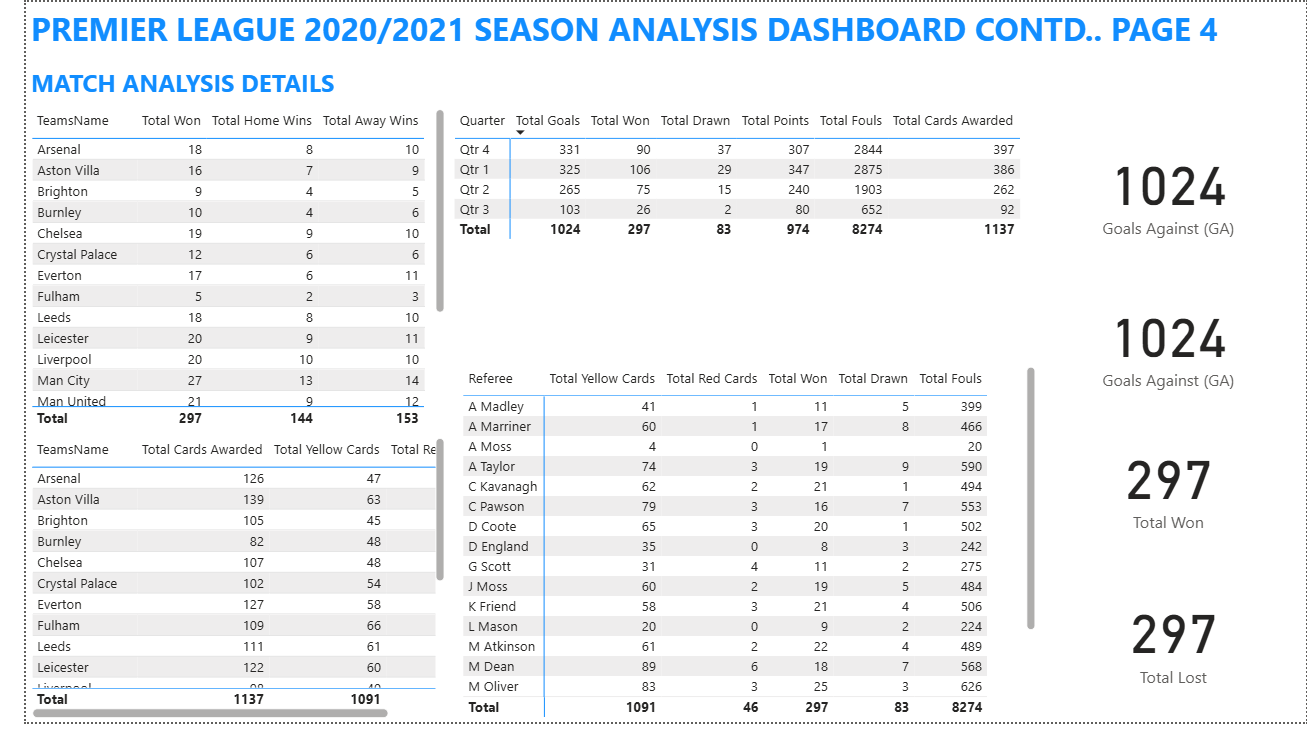

Layout of this report page (visuals, bound fields, positions):
{"tool":"powerbi","page":{"name":"ANALYSIS","canvas":[1280,720],"ordinal":3},"visuals":[{"type":"tableEx","fields":{"Values":["TeamSlicer.TeamsName","Table.Total Won","Table.Total Home Wins","Table.Total Away Wins"]},"box":[0,103.1,423.3,327.6],"z":0},{"type":"tableEx","fields":{"Values":["TeamSlicer.TeamsName","Table.Total Cards Awarded","Table.Total Yellow Cards","Table.Total Red Cards"]},"box":[0,430.7,423.3,289.6],"z":1},{"type":"pivotTable","fields":{"Rows":["Table.Date.Variation.Date Hierarchy.Quarter"],"Values":["Table.Total Goals","Table.Total Won","Table.Total Drawn","Table.Total Points","Table.Total Fouls","Table.Total Cards Awarded"]},"box":[423.3,103.1,581.6,170.6],"z":2},{"type":"pivotTable","fields":{"Rows":["Table.Referee"],"Values":["Table.Total Yellow Cards","Table.Total Red Cards","Table.Total Won","Table.Total Drawn","Table.Total Fouls"]},"box":[433,360,582,360],"z":3},{"type":"card","fields":{"Values":["Table.Goals Against (GA)"]},"box":[1014.7,103.1,255.2,170.6],"z":4},{"type":"textbox","box":[0,0,1216,60.1],"z":5},{"type":"textbox","box":[1014.7,633.1,255.2,87.1],"z":6},{"type":"textbox","box":[0,60.1,315.3,42.9],"z":7},{"type":"card","fields":{"Values":["Table.Goals Against (GA)"]},"box":[1014.7,267.5,255.2,144.8],"z":8},{"type":"card","fields":{"Values":["Table.Total Won"]},"box":[1014.7,412.3,255.2,138.7],"z":9},{"type":"card","fields":{"Values":["Table.Total Lost"]},"box":[1014.7,550.9,265,169.3],"z":10}]}

Visuals, with their boxes in screenshot pixels (x1, y1, x2, y2), scaled from the page's 1280x720 canvas onto the 1307x731 screenshot:
tableEx - TeamSlicer.TeamsName x Table.Total Won: box(0, 105, 432, 437)
tableEx - TeamSlicer.TeamsName x Table.Total Cards Awarded: box(0, 437, 432, 730)
pivotTable - Table.Date.Variation.Date Hierarchy.Quarter x Table.Total Goals: box(432, 105, 1026, 278)
pivotTable - Table.Referee x Table.Total Yellow Cards: box(442, 366, 1036, 730)
card - Table.Goals Against (GA): box(1036, 105, 1297, 278)
textbox: box(0, 0, 1242, 61)
textbox: box(1036, 643, 1297, 730)
textbox: box(0, 61, 322, 105)
card - Table.Goals Against (GA): box(1036, 272, 1297, 419)
card - Table.Total Won: box(1036, 419, 1297, 559)
card - Table.Total Lost: box(1036, 559, 1306, 730)
